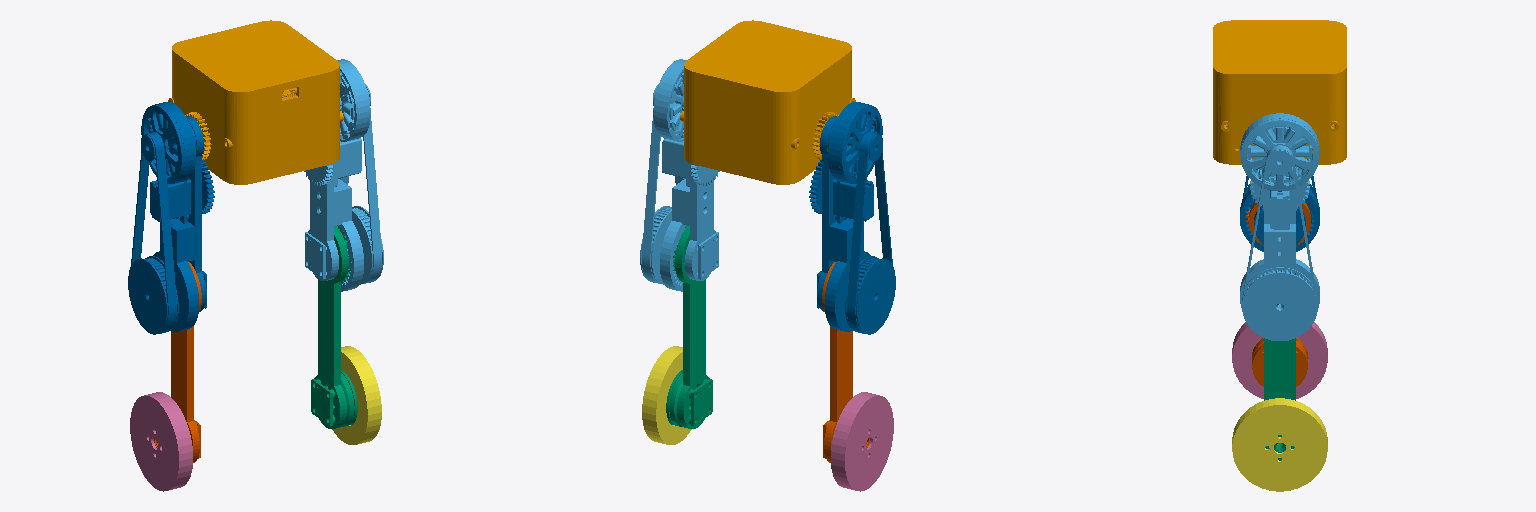
The robot description file, URDF, robot "ria":
<?xml version='1.0' encoding='utf-8'?>
<robot name="ria">
  <mujoco>
    <compiler discardvisual="false" fusestatic="false" />
  </mujoco>
  <link name="head">
    <visual>
      <origin xyz="0 0 0" />
      <geometry>
        <mesh filename="stl/head_top.stl" scale="0.001 0.001 0.001" />
      </geometry>
    </visual>
    <visual>
      <origin xyz="0 0 0" />
      <geometry>
        <mesh filename="stl/head_bottom.stl" scale="0.001 0.001 0.001" />
      </geometry>
    </visual>
    <visual>
      <origin xyz="0 0 0" />
      <geometry>
        <mesh filename="stl/head_tray.stl" scale="0.001 0.001 0.001" />
      </geometry>
    </visual>
    <visual>
      <origin xyz="0 0 0" />
      <geometry>
        <mesh filename="stl/battery_shoe.stl" scale="0.001 0.001 0.001" />
      </geometry>
    </visual>
    <visual>
      <origin xyz="0 0 0" />
      <geometry>
        <mesh filename="stl/tray_spacer_0.stl" scale="0.001 0.001 0.001" />
      </geometry>
    </visual>
    <visual>
      <origin xyz="0 0 0" />
      <geometry>
        <mesh filename="stl/tray_spacer_1.stl" scale="0.001 0.001 0.001" />
      </geometry>
    </visual>
    <visual>
      <origin xyz="0 0 0" />
      <geometry>
        <mesh filename="stl/tray_spacer_2.stl" scale="0.001 0.001 0.001" />
      </geometry>
    </visual>
    <visual>
      <origin xyz="0 0 0" />
      <geometry>
        <mesh filename="stl/tray_spacer_3.stl" scale="0.001 0.001 0.001" />
      </geometry>
    </visual>
    <visual>
      <origin xyz="0 0 0" />
      <geometry>
        <mesh filename="stl/simplefocmini_dual_0.stl" scale="0.001 0.001 0.001" />
      </geometry>
    </visual>
    <visual>
      <origin xyz="0 0 0" />
      <geometry>
        <mesh filename="stl/simplefocmini_dual_1.stl" scale="0.001 0.001 0.001" />
      </geometry>
    </visual>
    <visual>
      <origin xyz="0 0 0" />
      <geometry>
        <mesh filename="stl/tca9548a_2.stl" scale="0.001 0.001 0.001" />
      </geometry>
    </visual>
    <visual>
      <origin xyz="0 0 0" />
      <geometry>
        <mesh filename="stl/mp1584_3.stl" scale="0.001 0.001 0.001" />
      </geometry>
    </visual>
    <visual>
      <origin xyz="0 0 0" />
      <geometry>
        <mesh filename="stl/xt60h_m_4.stl" scale="0.001 0.001 0.001" />
      </geometry>
    </visual>
    <visual>
      <origin xyz="0 0 0" />
      <geometry>
        <mesh filename="stl/tattu_lipo_5.stl" scale="0.001 0.001 0.001" />
      </geometry>
    </visual>
    <visual>
      <origin xyz="0 0 0" />
      <geometry>
        <mesh filename="stl/pipico_6.stl" scale="0.001 0.001 0.001" />
      </geometry>
    </visual>
    <visual>
      <origin xyz="0 0 0" />
      <geometry>
        <mesh filename="stl/mpu6050_7.stl" scale="0.001 0.001 0.001" />
      </geometry>
    </visual>
    <inertial>
      <origin xyz="-0.000508684 2.28536e-05 -0.0070686" />
      <mass value="0.248373" />
      <inertia ixx="0.000197886" ixy="2.19121e-06" ixz="2.16542e-06" iyy="0.000145722" iyz="-4.46007e-07" izz="0.00021414" />
    </inertial>
    <collision>
      <origin xyz="0 0 0" />
      <geometry>
        <box size="0.08 0.084 0.06" />
      </geometry>
    </collision>
  </link>
  <link name="upper_leg_r">
    <visual>
      <origin xyz="0 0 0" />
      <geometry>
        <mesh filename="stl/upper_leg.stl" scale="0.001 0.001 0.001" />
      </geometry>
    </visual>
    <visual>
      <origin xyz="0 0 0" />
      <geometry>
        <mesh filename="stl/pinion.stl" scale="0.001 0.001 0.001" />
      </geometry>
    </visual>
    <visual>
      <origin xyz="0 0 0" />
      <geometry>
        <mesh filename="stl/sprocket_upper.stl" scale="0.001 0.001 0.001" />
      </geometry>
    </visual>
    <visual>
      <origin xyz="0 0 0" />
      <geometry>
        <mesh filename="stl/belt.stl" scale="0.001 0.001 0.001" />
      </geometry>
    </visual>
    <visual>
      <origin xyz="0 0 0" />
      <geometry>
        <mesh filename="stl/ring.stl" scale="0.001 0.001 0.001" />
      </geometry>
    </visual>
    <visual>
      <origin xyz="0 0 0" />
      <geometry>
        <mesh filename="stl/sun.stl" scale="0.001 0.001 0.001" />
      </geometry>
    </visual>
    <visual>
      <origin xyz="0 0 0" />
      <geometry>
        <mesh filename="stl/pulley.stl" scale="0.001 0.001 0.001" />
      </geometry>
    </visual>
    <visual>
      <origin xyz="0 0 0" />
      <geometry>
        <mesh filename="stl/magnet_knee.stl" scale="0.001 0.001 0.001" />
      </geometry>
    </visual>
    <visual>
      <origin xyz="0 0 0" />
      <geometry>
        <mesh filename="stl/5010_body_0.stl" scale="0.001 0.001 0.001" />
      </geometry>
    </visual>
    <visual>
      <origin xyz="0 0 0" />
      <geometry>
        <mesh filename="stl/5010_rotor_1.stl" scale="0.001 0.001 0.001" />
      </geometry>
    </visual>
    <visual>
      <origin xyz="0 0 0" />
      <geometry>
        <mesh filename="stl/sg90_body_2.stl" scale="0.001 0.001 0.001" />
      </geometry>
    </visual>
    <visual>
      <origin xyz="0 0 0" />
      <geometry>
        <mesh filename="stl/as5600_4.stl" scale="0.001 0.001 0.001" />
      </geometry>
    </visual>
    <inertial>
      <origin xyz="-6.60249e-20 -0.0230998 0.0162152" />
      <mass value="0.151281" />
      <inertia ixx="0.000248851" ixy="-1.57411e-21" ixz="3.31057e-22" iyy="3.20411e-05" iyz="3.60401e-07" izz="0.000260492" />
    </inertial>
    <collision>
      <origin xyz="0 -0.05 0.01415" />
      <geometry>
        <box size="0.02 0.1 0.0365" />
      </geometry>
    </collision>
  </link>
  <link name="lower_leg_r">
    <visual>
      <origin xyz="0 0.1 0" />
      <geometry>
        <mesh filename="stl/lower_leg.stl" scale="0.001 0.001 0.001" />
      </geometry>
    </visual>
    <visual>
      <origin xyz="0 0.1 0" />
      <geometry>
        <mesh filename="stl/planet_0.stl" scale="0.001 0.001 0.001" />
      </geometry>
    </visual>
    <visual>
      <origin xyz="0 0.1 0" />
      <geometry>
        <mesh filename="stl/planet_1.stl" scale="0.001 0.001 0.001" />
      </geometry>
    </visual>
    <visual>
      <origin xyz="0 0.1 0" />
      <geometry>
        <mesh filename="stl/planet_2.stl" scale="0.001 0.001 0.001" />
      </geometry>
    </visual>
    <visual>
      <origin xyz="0 0.1 0" />
      <geometry>
        <mesh filename="stl/magnet_ankle.stl" scale="0.001 0.001 0.001" />
      </geometry>
    </visual>
    <visual>
      <origin xyz="0 0.1 0" />
      <geometry>
        <mesh filename="stl/gbm2804_3.stl" scale="0.001 0.001 0.001" />
      </geometry>
    </visual>
    <visual>
      <origin xyz="0 0.1 0" />
      <geometry>
        <mesh filename="stl/as5600_5.stl" scale="0.001 0.001 0.001" />
      </geometry>
    </visual>
    <inertial>
      <origin xyz="1.57106e-05 -0.0884864 0.0145793" />
      <mass value="0.0567039" />
      <inertia ixx="5.55023e-05" ixy="1.02569e-08" ixz="-2.26787e-09" iyy="7.25703e-06" iyz="4.13978e-06" izz="5.86006e-05" />
    </inertial>
    <collision>
      <origin xyz="0 -0.05 0.0135" />
      <geometry>
        <box size="0.02 0.1 0.0237" />
      </geometry>
    </collision>
  </link>
  <link name="wheel_r">
    <visual>
      <origin xyz="0 0.2 -0.02235" />
      <geometry>
        <mesh filename="stl/wheel.stl" scale="0.001 0.001 0.001" />
      </geometry>
    </visual>
    <inertial>
      <origin xyz="5.07557e-19 8.18792e-19 0.00037003" />
      <mass value="0.0140451" />
      <inertia ixx="4.12562e-06" ixy="-8.91538e-25" ixz="-3.36057e-24" iyy="4.12562e-06" iyz="5.929e-23" izz="8.00021e-06" />
    </inertial>
    <collision>
      <origin xyz="0 0 0" />
      <geometry>
        <cylinder radius="0.03" length="0.01" />
      </geometry>
    </collision>
  </link>
  <joint name="hip_r" type="revolute">
    <origin xyz="0.0441 0 -0.0128" rpy="1.5708 -0 1.5708" />
    <parent link="head" />
    <child link="upper_leg_r" />
    <axis xyz="0 0 1" />
    <limit lower="-1.9" upper="1.9" effort="0.25" velocity="8" />
  </joint>
  <joint name="knee_r" type="revolute">
    <origin xyz="0 -0.1 0" rpy="0 -0 0" />
    <parent link="upper_leg_r" />
    <child link="lower_leg_r" />
    <axis xyz="0 0 1" />
    <limit lower="-2.6" upper="2.6" effort="3" velocity="30" />
  </joint>
  <joint name="wheel_r" type="continuous">
    <origin xyz="0 -0.1 0.02235" rpy="0 -0 0" />
    <parent link="lower_leg_r" />
    <child link="wheel_r" />
    <axis xyz="0 0 1" />
    <limit effort="0.3" velocity="100" />
  </joint>
  <link name="upper_leg_l">
    <visual>
      <origin xyz="0 0 0" />
      <geometry>
        <mesh filename="stl/upper_leg.stl" scale="0.001 0.001 0.001" />
      </geometry>
    </visual>
    <visual>
      <origin xyz="0 0 0" />
      <geometry>
        <mesh filename="stl/pinion.stl" scale="0.001 0.001 0.001" />
      </geometry>
    </visual>
    <visual>
      <origin xyz="0 0 0" />
      <geometry>
        <mesh filename="stl/sprocket_upper.stl" scale="0.001 0.001 0.001" />
      </geometry>
    </visual>
    <visual>
      <origin xyz="0 0 0" />
      <geometry>
        <mesh filename="stl/belt.stl" scale="0.001 0.001 0.001" />
      </geometry>
    </visual>
    <visual>
      <origin xyz="0 0 0" />
      <geometry>
        <mesh filename="stl/ring.stl" scale="0.001 0.001 0.001" />
      </geometry>
    </visual>
    <visual>
      <origin xyz="0 0 0" />
      <geometry>
        <mesh filename="stl/sun.stl" scale="0.001 0.001 0.001" />
      </geometry>
    </visual>
    <visual>
      <origin xyz="0 0 0" />
      <geometry>
        <mesh filename="stl/pulley.stl" scale="0.001 0.001 0.001" />
      </geometry>
    </visual>
    <visual>
      <origin xyz="0 0 0" />
      <geometry>
        <mesh filename="stl/magnet_knee.stl" scale="0.001 0.001 0.001" />
      </geometry>
    </visual>
    <visual>
      <origin xyz="0 0 0" />
      <geometry>
        <mesh filename="stl/5010_body_0.stl" scale="0.001 0.001 0.001" />
      </geometry>
    </visual>
    <visual>
      <origin xyz="0 0 0" />
      <geometry>
        <mesh filename="stl/5010_rotor_1.stl" scale="0.001 0.001 0.001" />
      </geometry>
    </visual>
    <visual>
      <origin xyz="0 0 0" />
      <geometry>
        <mesh filename="stl/sg90_body_2.stl" scale="0.001 0.001 0.001" />
      </geometry>
    </visual>
    <visual>
      <origin xyz="0 0 0" />
      <geometry>
        <mesh filename="stl/as5600_4.stl" scale="0.001 0.001 0.001" />
      </geometry>
    </visual>
    <inertial>
      <origin xyz="-6.60249e-20 -0.0230998 0.0162152" />
      <mass value="0.151281" />
      <inertia ixx="0.000248851" ixy="-1.57411e-21" ixz="3.31057e-22" iyy="3.20411e-05" iyz="3.60401e-07" izz="0.000260492" />
    </inertial>
    <collision>
      <origin xyz="0 -0.05 0.01415" />
      <geometry>
        <box size="0.02 0.1 0.0365" />
      </geometry>
    </collision>
  </link>
  <link name="lower_leg_l">
    <visual>
      <origin xyz="0 0.1 0" />
      <geometry>
        <mesh filename="stl/lower_leg.stl" scale="0.001 0.001 0.001" />
      </geometry>
    </visual>
    <visual>
      <origin xyz="0 0.1 0" />
      <geometry>
        <mesh filename="stl/planet_0.stl" scale="0.001 0.001 0.001" />
      </geometry>
    </visual>
    <visual>
      <origin xyz="0 0.1 0" />
      <geometry>
        <mesh filename="stl/planet_1.stl" scale="0.001 0.001 0.001" />
      </geometry>
    </visual>
    <visual>
      <origin xyz="0 0.1 0" />
      <geometry>
        <mesh filename="stl/planet_2.stl" scale="0.001 0.001 0.001" />
      </geometry>
    </visual>
    <visual>
      <origin xyz="0 0.1 0" />
      <geometry>
        <mesh filename="stl/magnet_ankle.stl" scale="0.001 0.001 0.001" />
      </geometry>
    </visual>
    <visual>
      <origin xyz="0 0.1 0" />
      <geometry>
        <mesh filename="stl/gbm2804_3.stl" scale="0.001 0.001 0.001" />
      </geometry>
    </visual>
    <visual>
      <origin xyz="0 0.1 0" />
      <geometry>
        <mesh filename="stl/as5600_5.stl" scale="0.001 0.001 0.001" />
      </geometry>
    </visual>
    <inertial>
      <origin xyz="1.57106e-05 -0.0884864 0.0145793" />
      <mass value="0.0567039" />
      <inertia ixx="5.55023e-05" ixy="1.02569e-08" ixz="-2.26787e-09" iyy="7.25703e-06" iyz="4.13978e-06" izz="5.86006e-05" />
    </inertial>
    <collision>
      <origin xyz="0 -0.05 0.0135" />
      <geometry>
        <box size="0.02 0.1 0.0237" />
      </geometry>
    </collision>
  </link>
  <link name="wheel_l">
    <visual>
      <origin xyz="0 0.2 -0.02235" />
      <geometry>
        <mesh filename="stl/wheel.stl" scale="0.001 0.001 0.001" />
      </geometry>
    </visual>
    <inertial>
      <origin xyz="5.07557e-19 8.18792e-19 0.00037003" />
      <mass value="0.0140451" />
      <inertia ixx="4.12562e-06" ixy="-8.91538e-25" ixz="-3.36057e-24" iyy="4.12562e-06" iyz="5.929e-23" izz="8.00021e-06" />
    </inertial>
    <collision>
      <origin xyz="0 0 0" />
      <geometry>
        <cylinder radius="0.03" length="0.01" />
      </geometry>
    </collision>
  </link>
  <joint name="hip_l" type="revolute">
    <origin xyz="-0.0441 0 -0.0128" rpy="1.5708 -0 -1.5708" />
    <parent link="head" />
    <child link="upper_leg_l" />
    <axis xyz="0 0 1" />
    <limit lower="-1.9" upper="1.9" effort="0.25" velocity="8" />
  </joint>
  <joint name="knee_l" type="revolute">
    <origin xyz="0 -0.1 0" rpy="0 -0 0" />
    <parent link="upper_leg_l" />
    <child link="lower_leg_l" />
    <axis xyz="0 0 1" />
    <limit lower="-2.6" upper="2.6" effort="3" velocity="30" />
  </joint>
  <joint name="wheel_l" type="continuous">
    <origin xyz="0 -0.1 0.02235" rpy="0 -0 0" />
    <parent link="lower_leg_l" />
    <child link="wheel_l" />
    <axis xyz="0 0 1" />
    <limit effort="0.3" velocity="100" />
  </joint>
</robot>

--- Render facts (derived) ---
The picture shows the robot from 3 angles, left to right: view 1: azimuth 30°, elevation 25°; view 2: azimuth 150°, elevation 25°; view 3: azimuth 270°, elevation 25°; orthographic projection.
Robot: ria — 7 links, 6 joints (4 revolute, 2 continuous); root link head; default pose: all joints at 0.
Visible links, largest first — view 1: head, upper_leg_l, upper_leg_r, lower_leg_r, wheel_l, wheel_r, lower_leg_l; view 2: head, upper_leg_l, upper_leg_r, lower_leg_r, wheel_l, wheel_r, lower_leg_l; view 3: head, upper_leg_r, wheel_r, wheel_l, lower_leg_r, upper_leg_l, lower_leg_l.
Boxes of the visible links, x1,y1,x2,y2 form: head: (168, 20, 343, 184); upper_leg_l: (128, 102, 214, 334); upper_leg_r: (304, 59, 383, 291); lower_leg_r: (311, 225, 357, 428); wheel_l: (130, 392, 192, 491); wheel_r: (332, 346, 381, 444); lower_leg_l: (154, 262, 201, 462); head: (680, 20, 855, 184); upper_leg_l: (809, 102, 895, 334); upper_leg_r: (640, 59, 719, 291); lower_leg_r: (666, 225, 712, 428); wheel_l: (831, 392, 893, 491); wheel_r: (642, 346, 691, 444); lower_leg_l: (822, 262, 869, 462); head: (1213, 20, 1346, 164); upper_leg_r: (1240, 113, 1319, 340); wheel_r: (1232, 398, 1327, 491); wheel_l: (1232, 322, 1327, 398); lower_leg_r: (1264, 338, 1295, 460); upper_leg_l: (1240, 176, 1319, 251); lower_leg_l: (1245, 203, 1310, 386).
Bounding box of the posed robot: 0.153 × 0.084 × 0.2739 m (x, y, z).
56 mesh visuals loaded from 36 distinct referenced files (36 binary STL).
